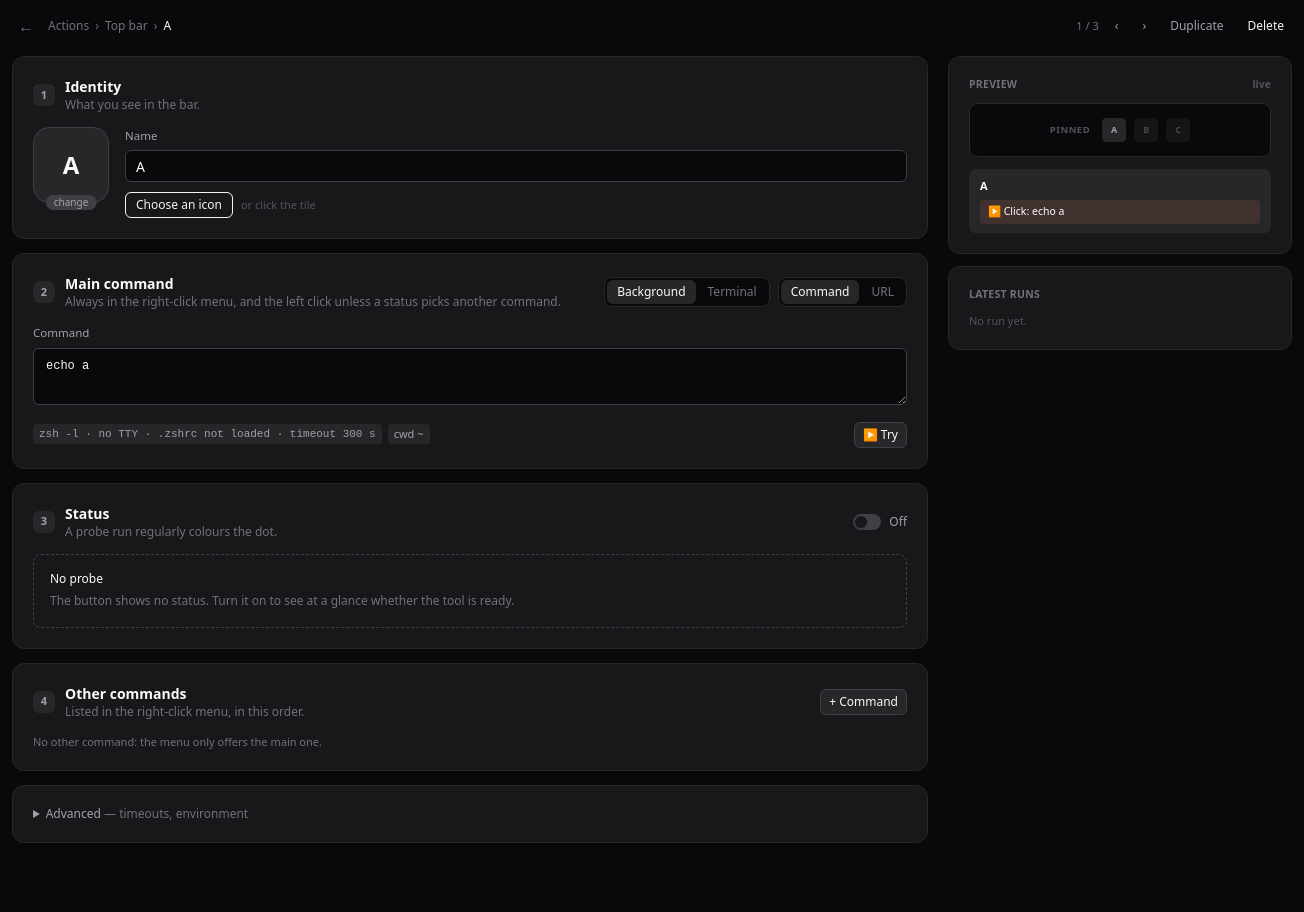
Test: ActionDetail › blocks Save on an invalid draft and says why
The image size is (1304, 912).
Clear the field labelled "Name": {"x": 516, "y": 166} [125, 150, 907, 182]
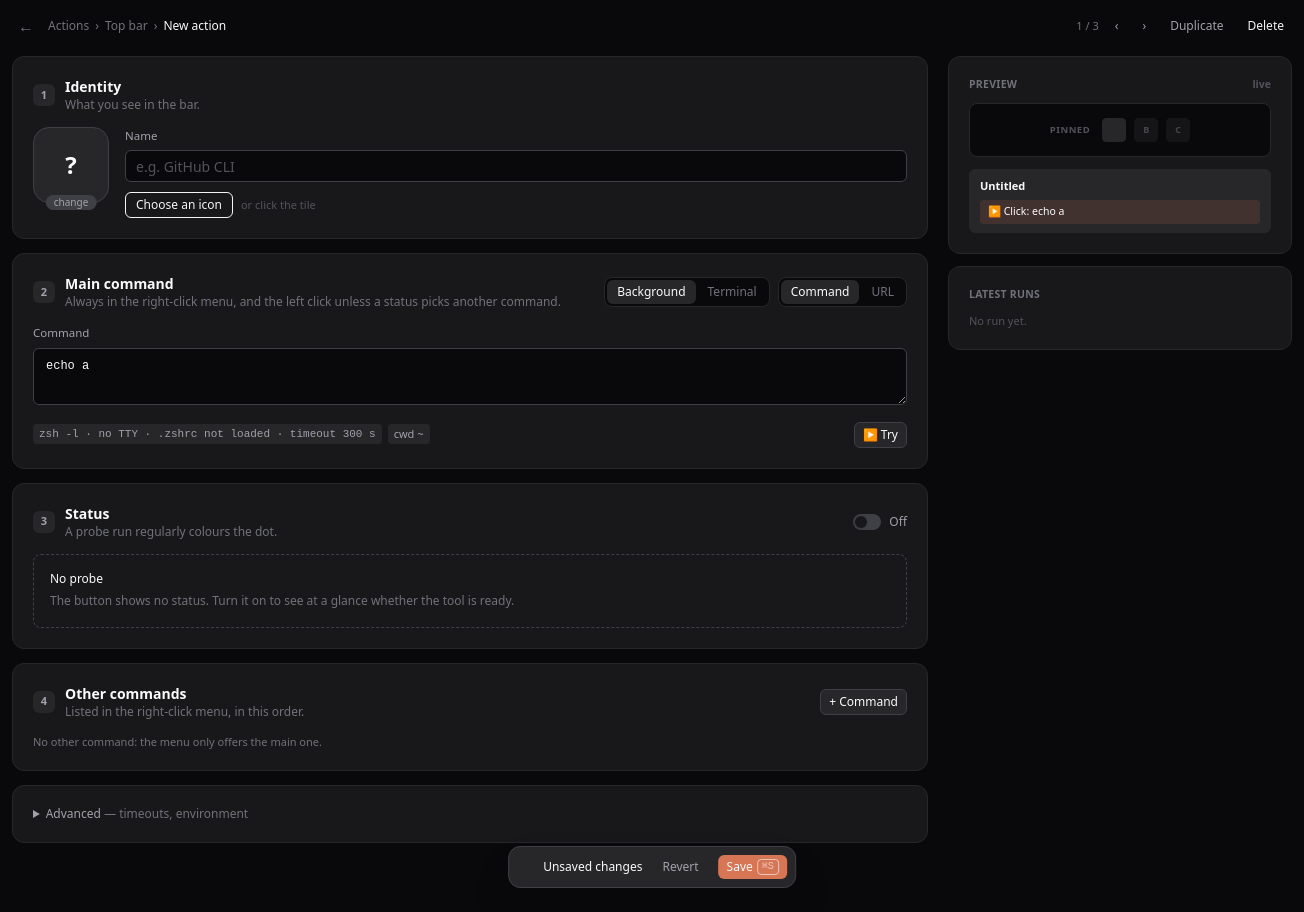
Click the button "Save ⌘S": {"x": 753, "y": 867} [719, 855, 787, 879]
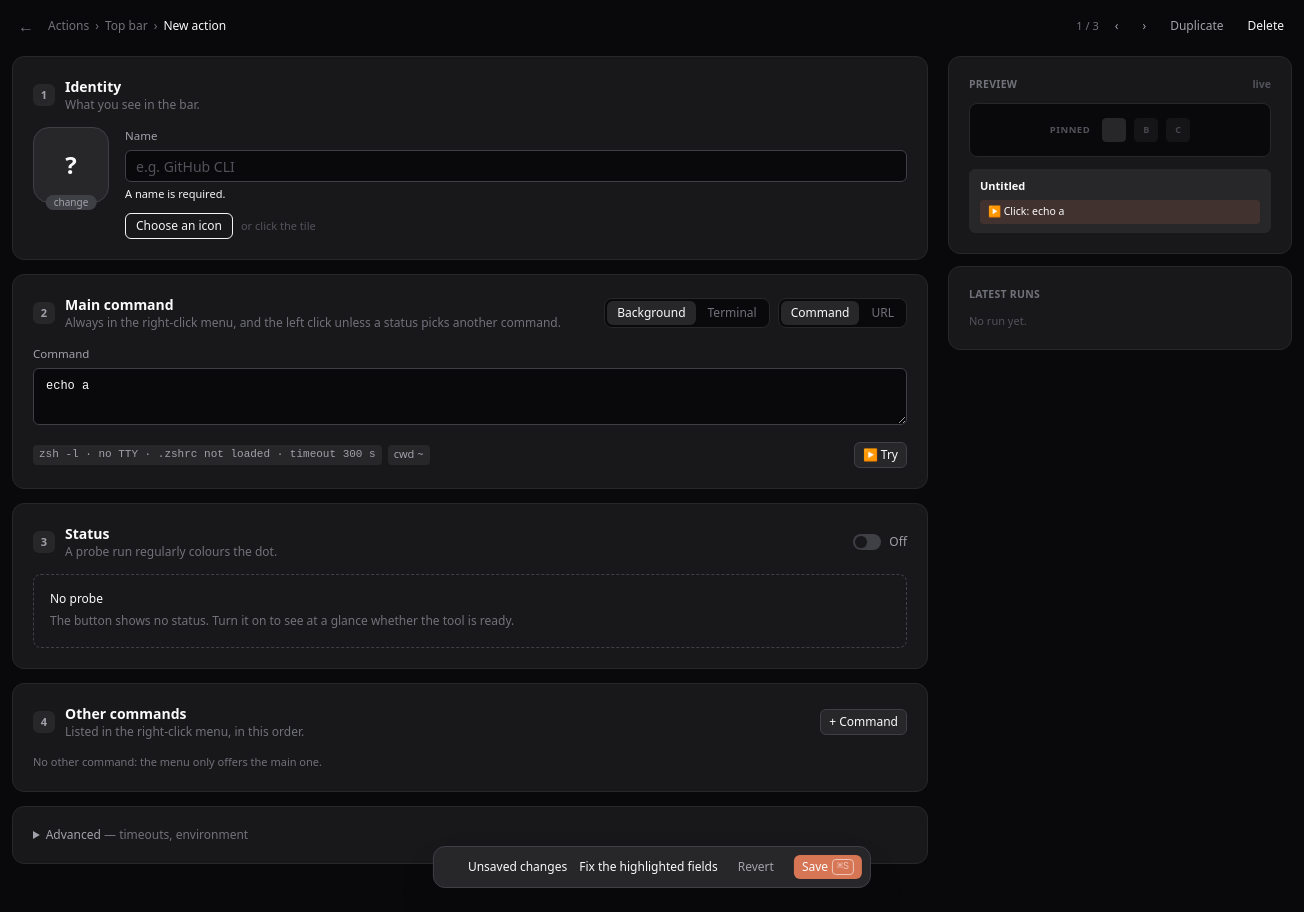
expect the text "A name is required." is shown: met, box [125, 186, 225, 201]
